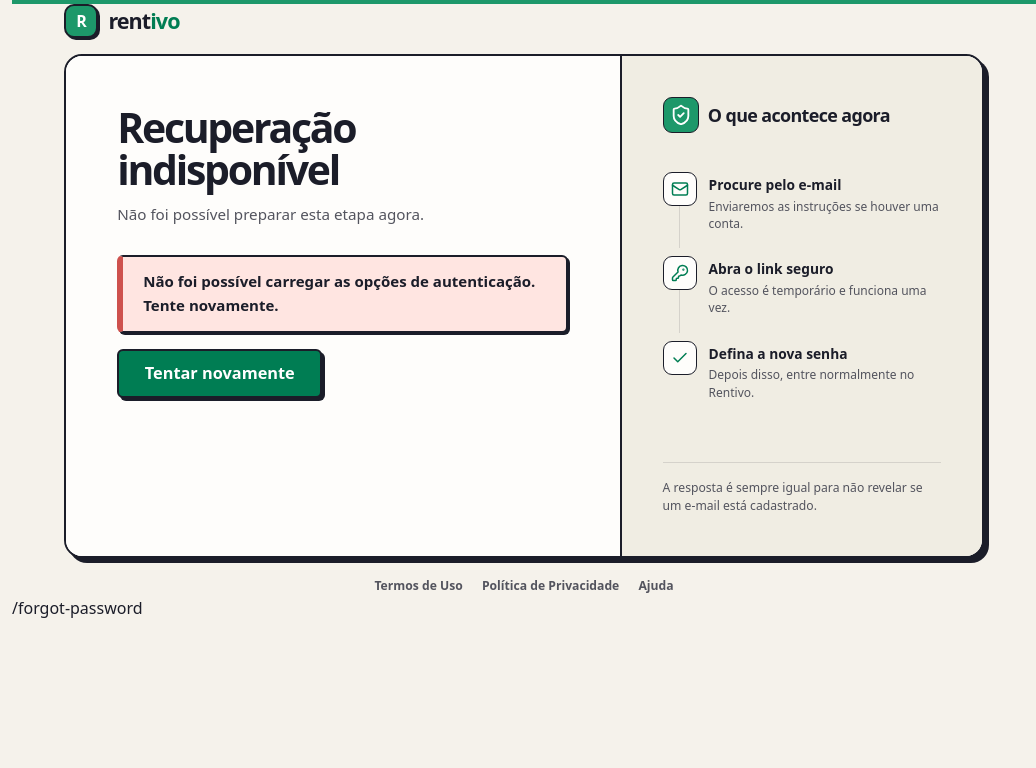
Test: ForgotPasswordPage › recovers when authentication configuration becomes available on retry
Expected: the heading "Recuperação indisponível" is shown, [117, 99, 355, 197]
What coordinates should you click on to do the following:
click the button "Tentar novamente"
I would click on:
 (220, 373)
Its box is [117, 348, 322, 398].
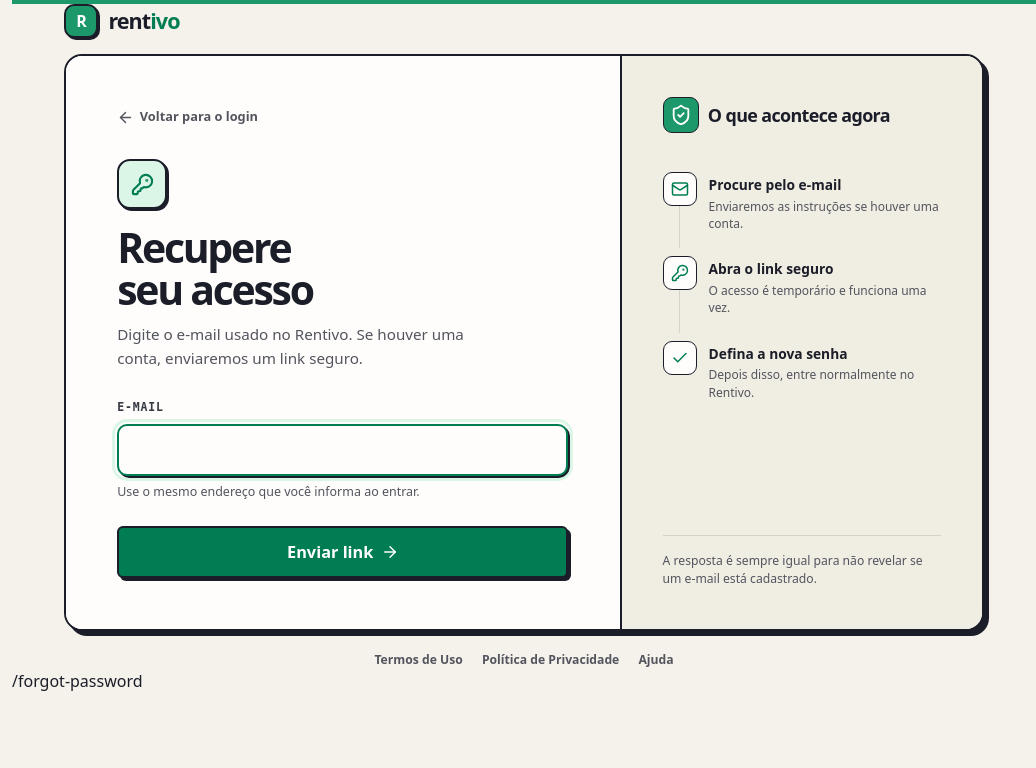
Result: the heading "Recupere seu acesso" is shown at [117, 219, 313, 317]
